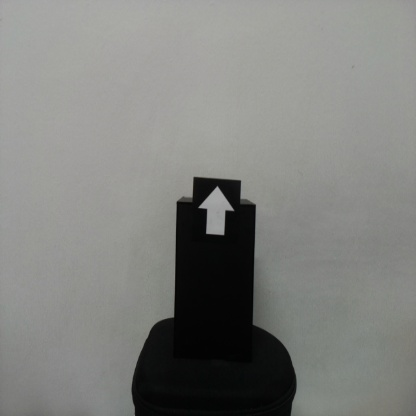id_1: (193, 178, 241, 254)
